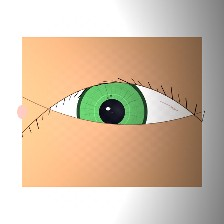pinguecula_lesion: (39, 100, 84, 136)
